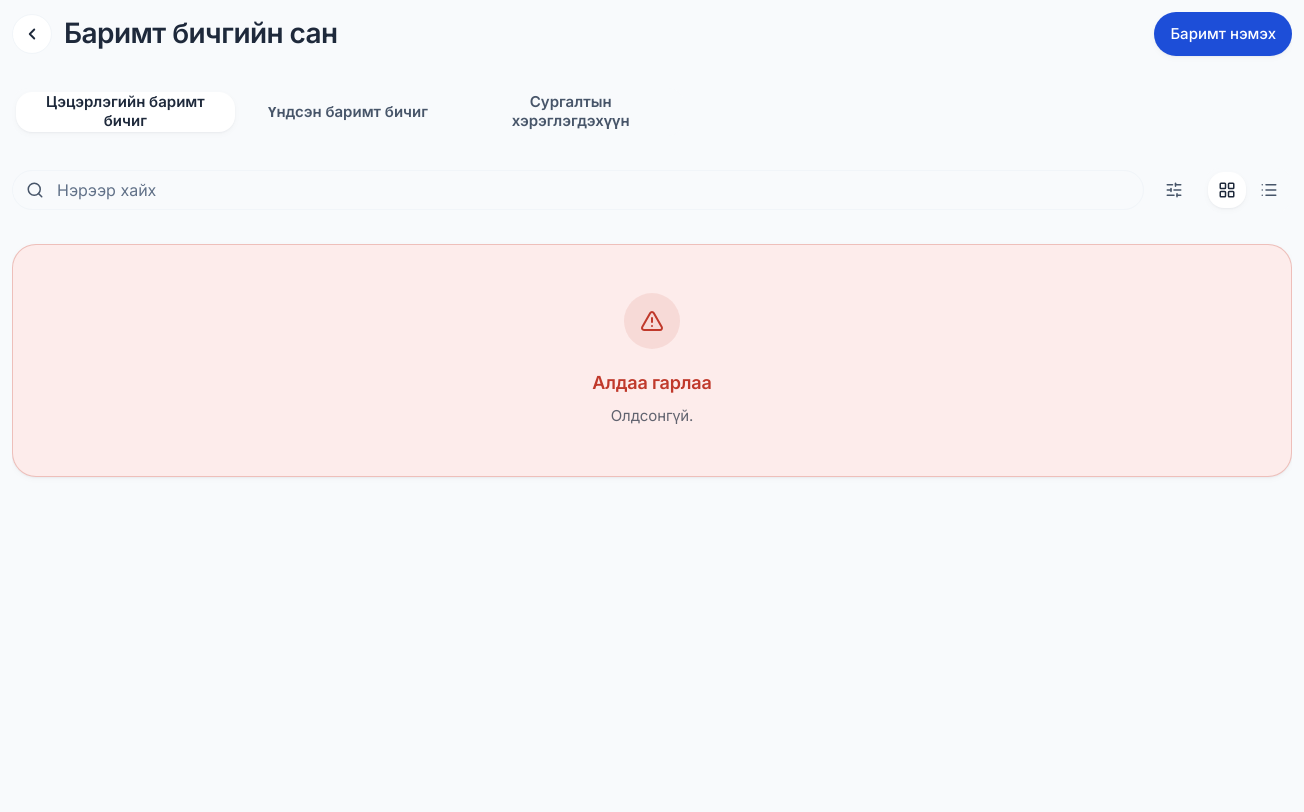
it: the teaching materials tab › asks the server to search and filter
The width and height of the screenshot is (1304, 812).
Click the tab "Сургалтын хэрэглэгдэхүүн": [571, 112] box [461,92,680,132]
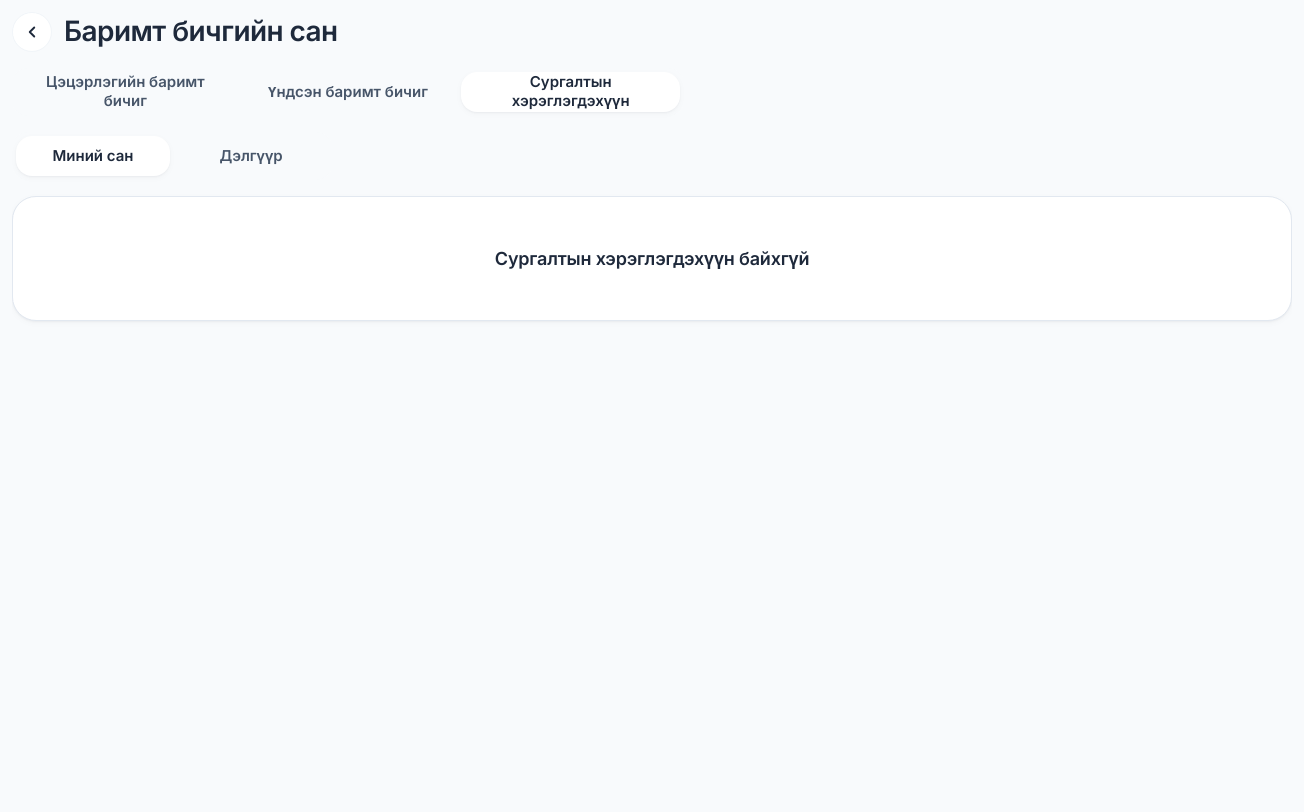
Click the tab "Дэлгүүр": [251, 156] box [174,136,328,176]
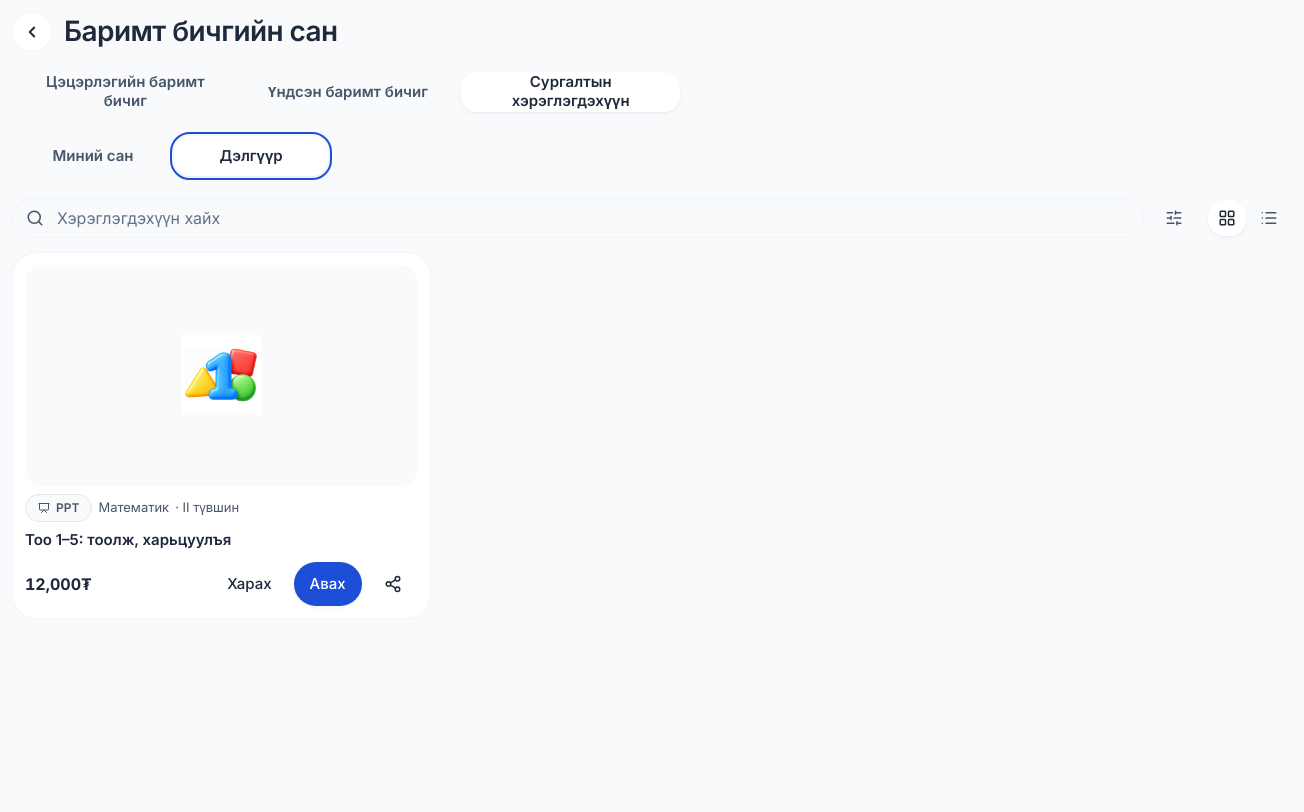
In the search field labelled "Хэрэглэгдэхүүн хайх": [578, 218] box [12,198,1144,238], type "намар"
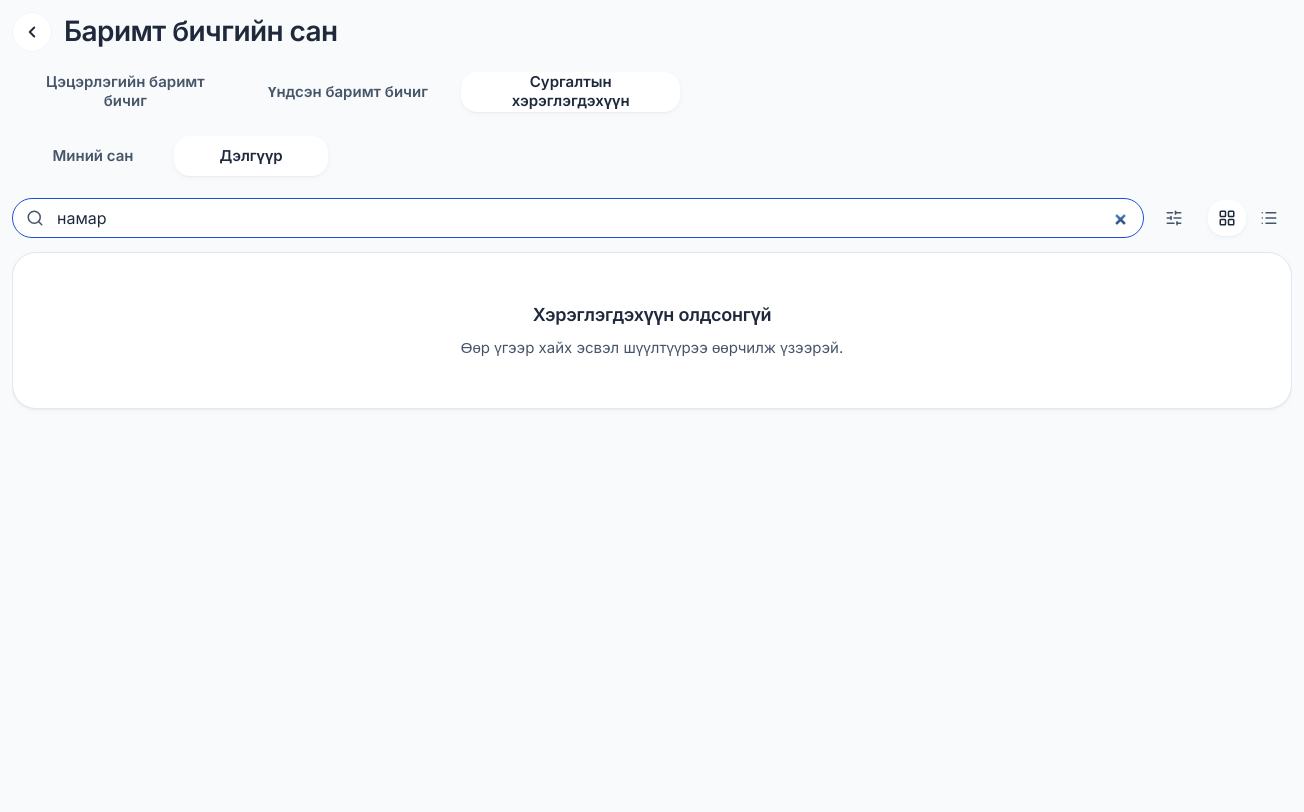
Click the button named "Шүүлтүүр": [1174, 218] box [1152,196,1196,240]
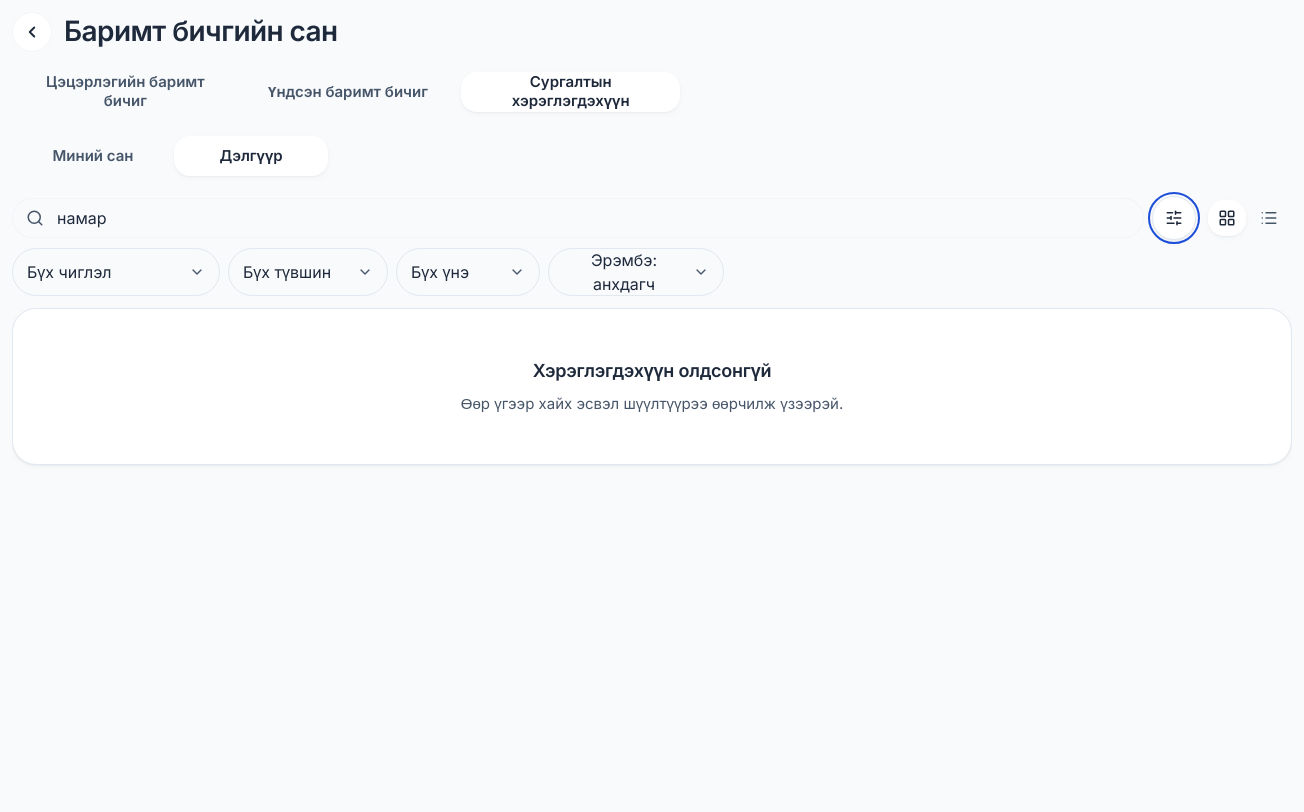
Click the dropdown named "Сургалтын чиглэлээр шүүх": [116, 272] box [12,248,220,296]
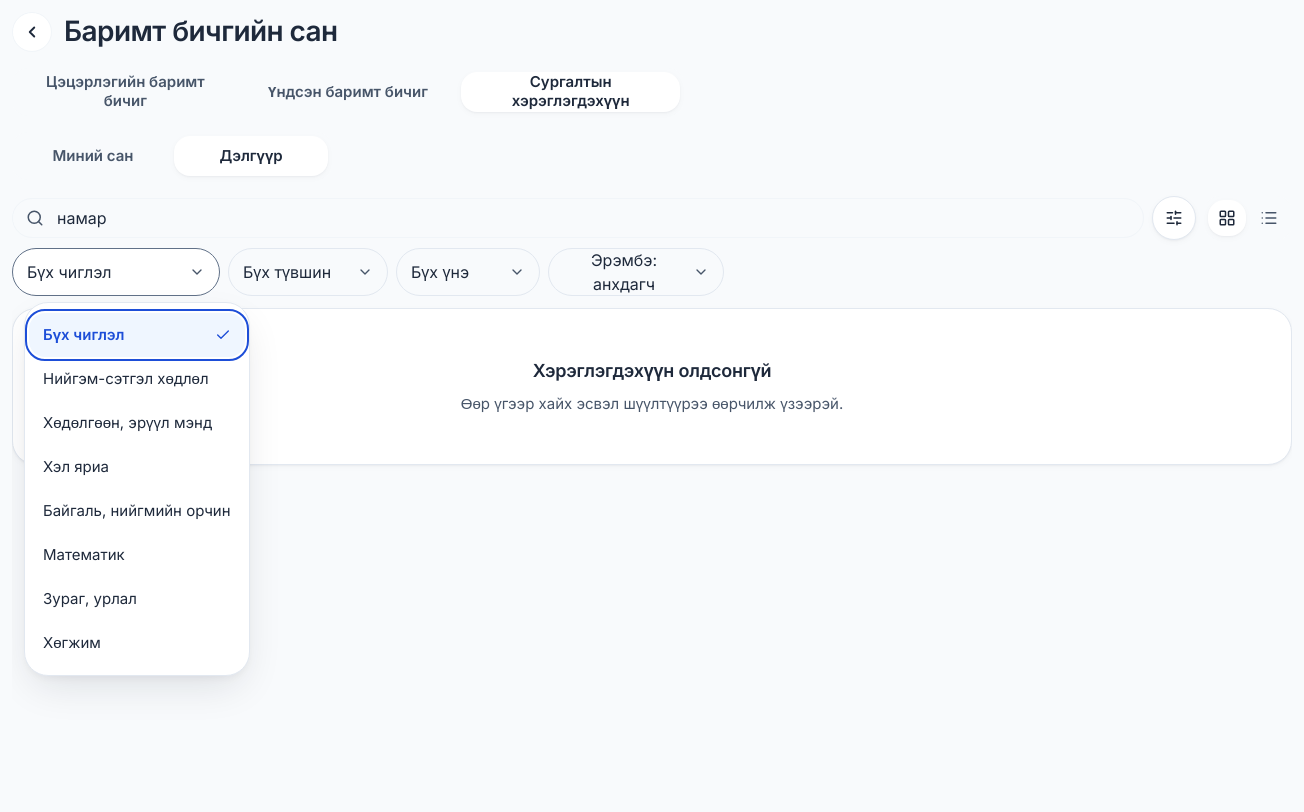
Click the option "Хөгжим": [72, 642] box [43,633,101,652]
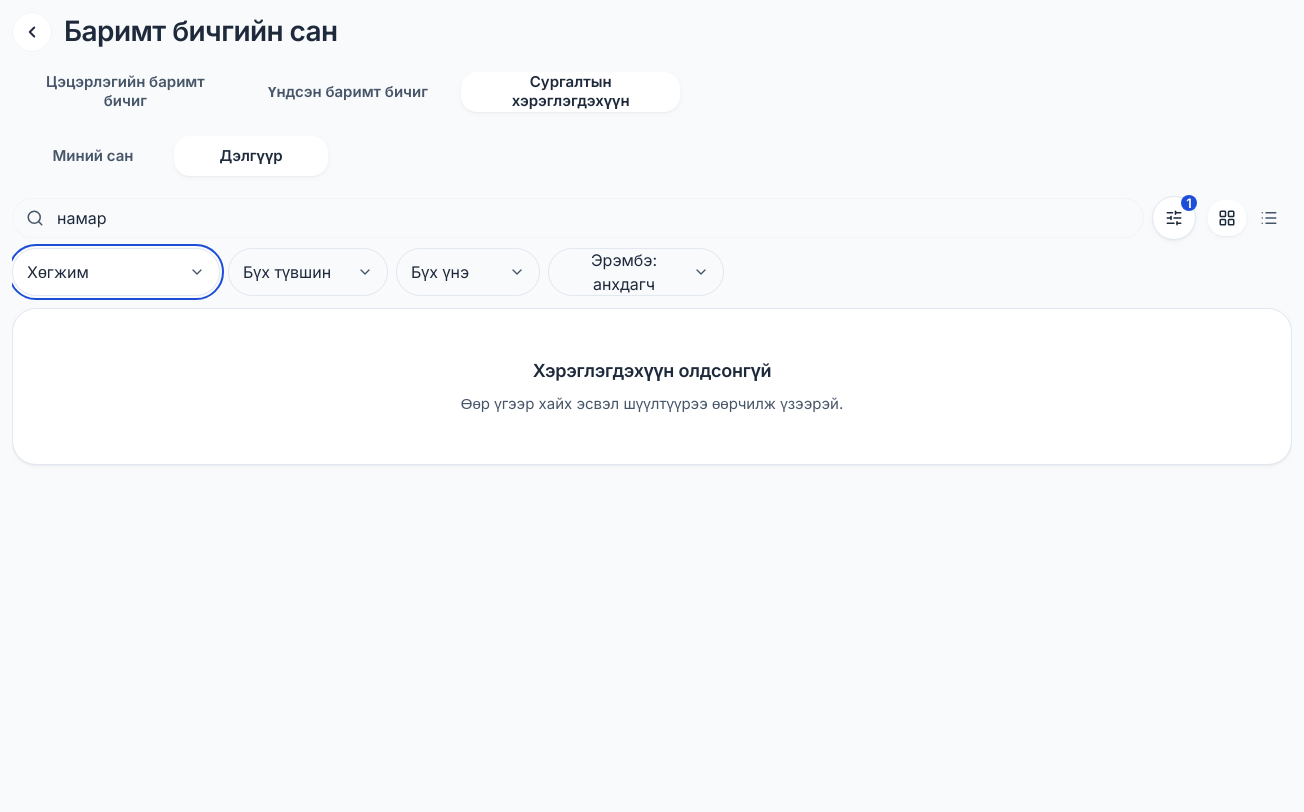
Expected: the text "Хөгжим" is shown, [27,260,89,284]
